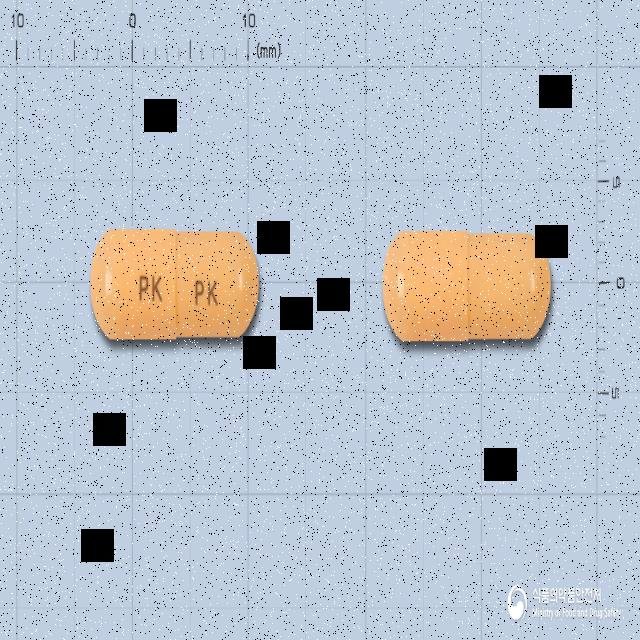Cefac Cap: (89, 223, 262, 345)
